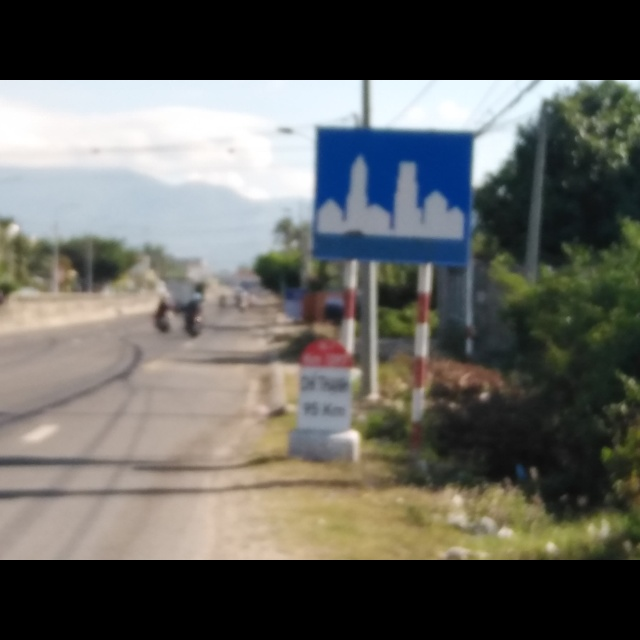Khu đông dân cư: (309, 123, 475, 271)
